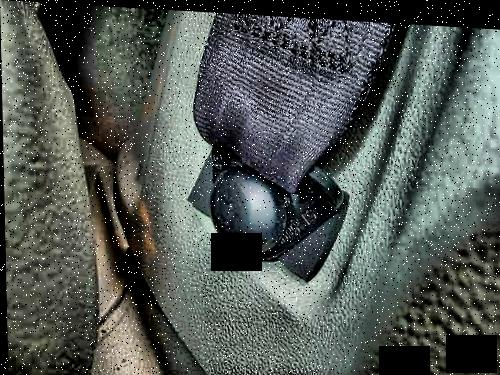seatbelt: (171, 29, 396, 266)
